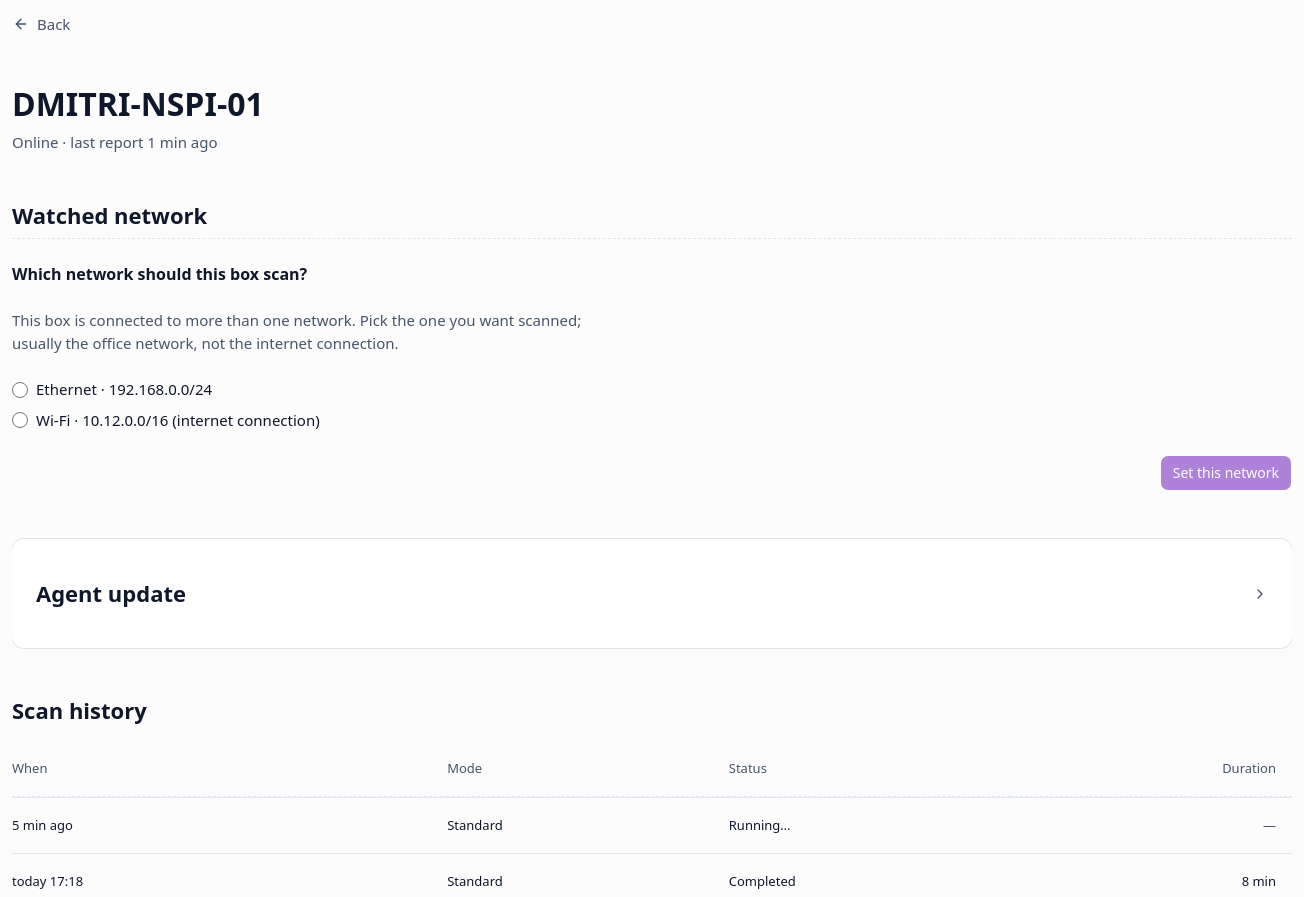
Test: DeviceDetail › requires a reported network choice without free text
Check: the form with test id "agents-chooser" is shown, box [12,238,1292,491]
Check: the radio button labelled "Ethernet · 192.168.0.0/24" is shown, box [12,382,28,398]
What coordinates should you click on to do the following:
click the radio button labelled "Wi-Fi · 10.12.0.0/16 (internet connection)"
I would click on:
 (20, 420)
Its box is [12,412,28,428].
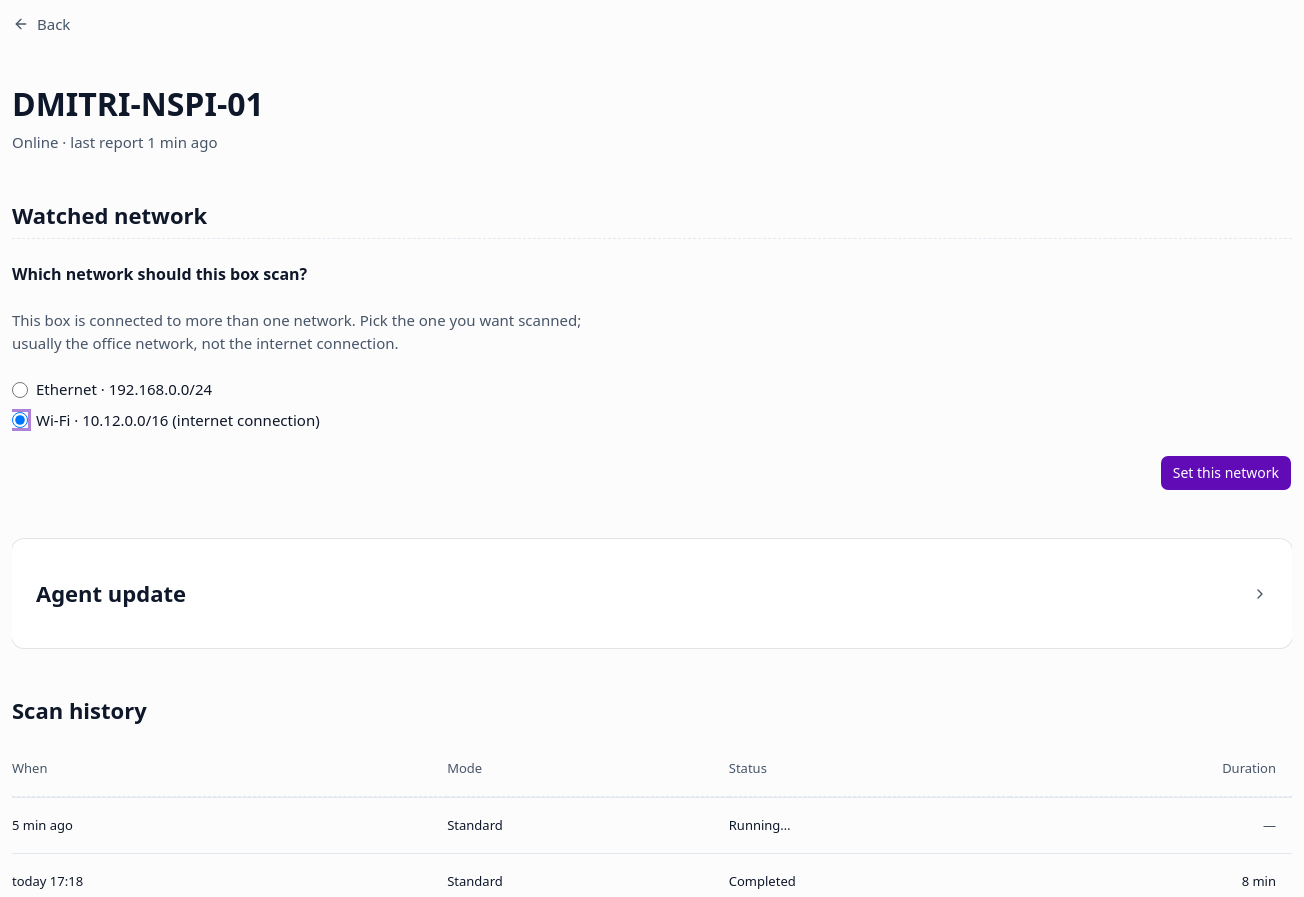
What coordinates should you click on to do the following:
click the button with test id "agents-chooser-confirm"
I would click on:
 (1226, 473)
Its box is [1160,455,1292,491].
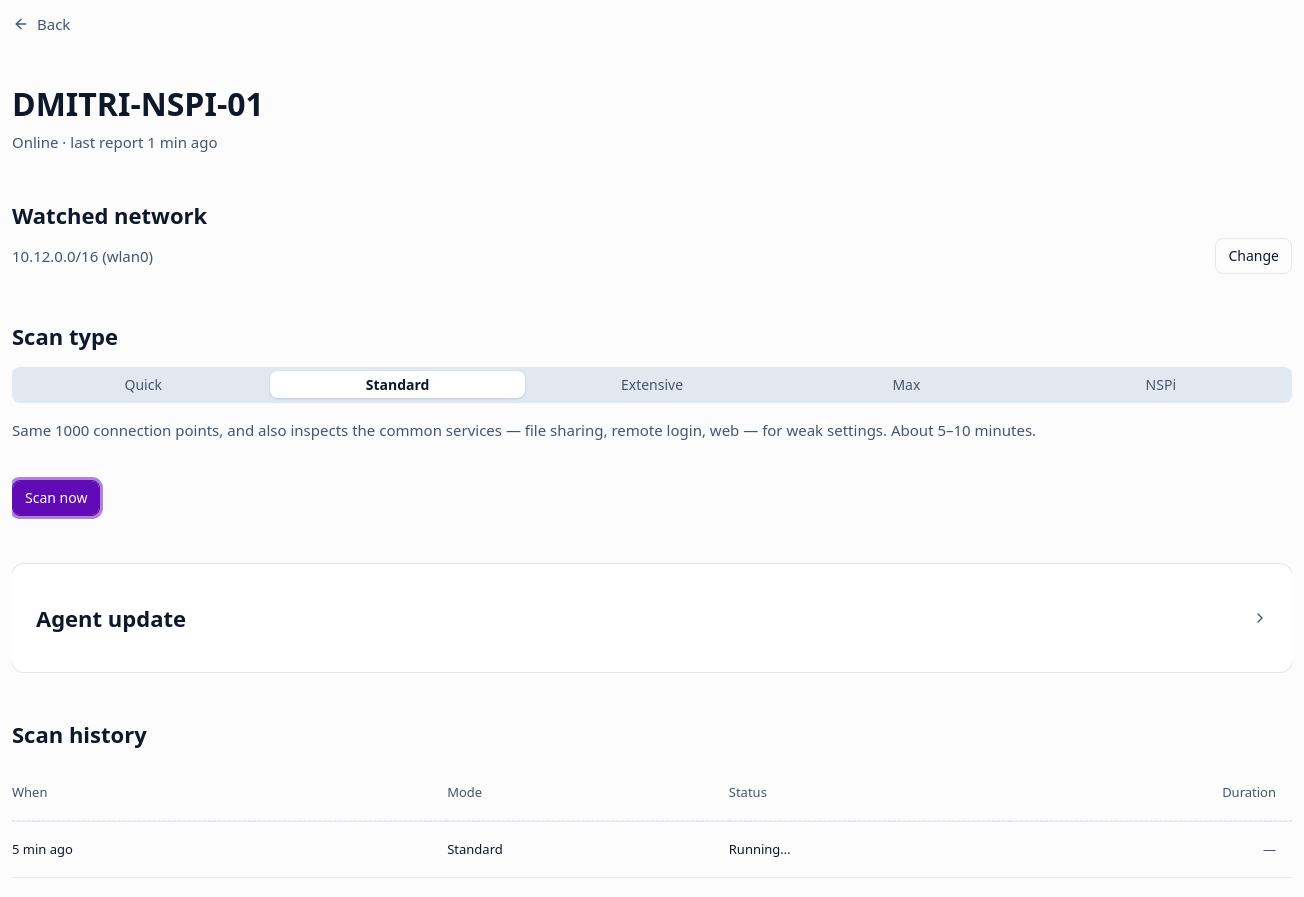
Check: the button with test id "agents-scan-now" is shown, box [12,480,100,516]
Check: the text with test id "agents-network" reads "10.12.0.0/16 (wlan0)", box [12,246,153,266]
